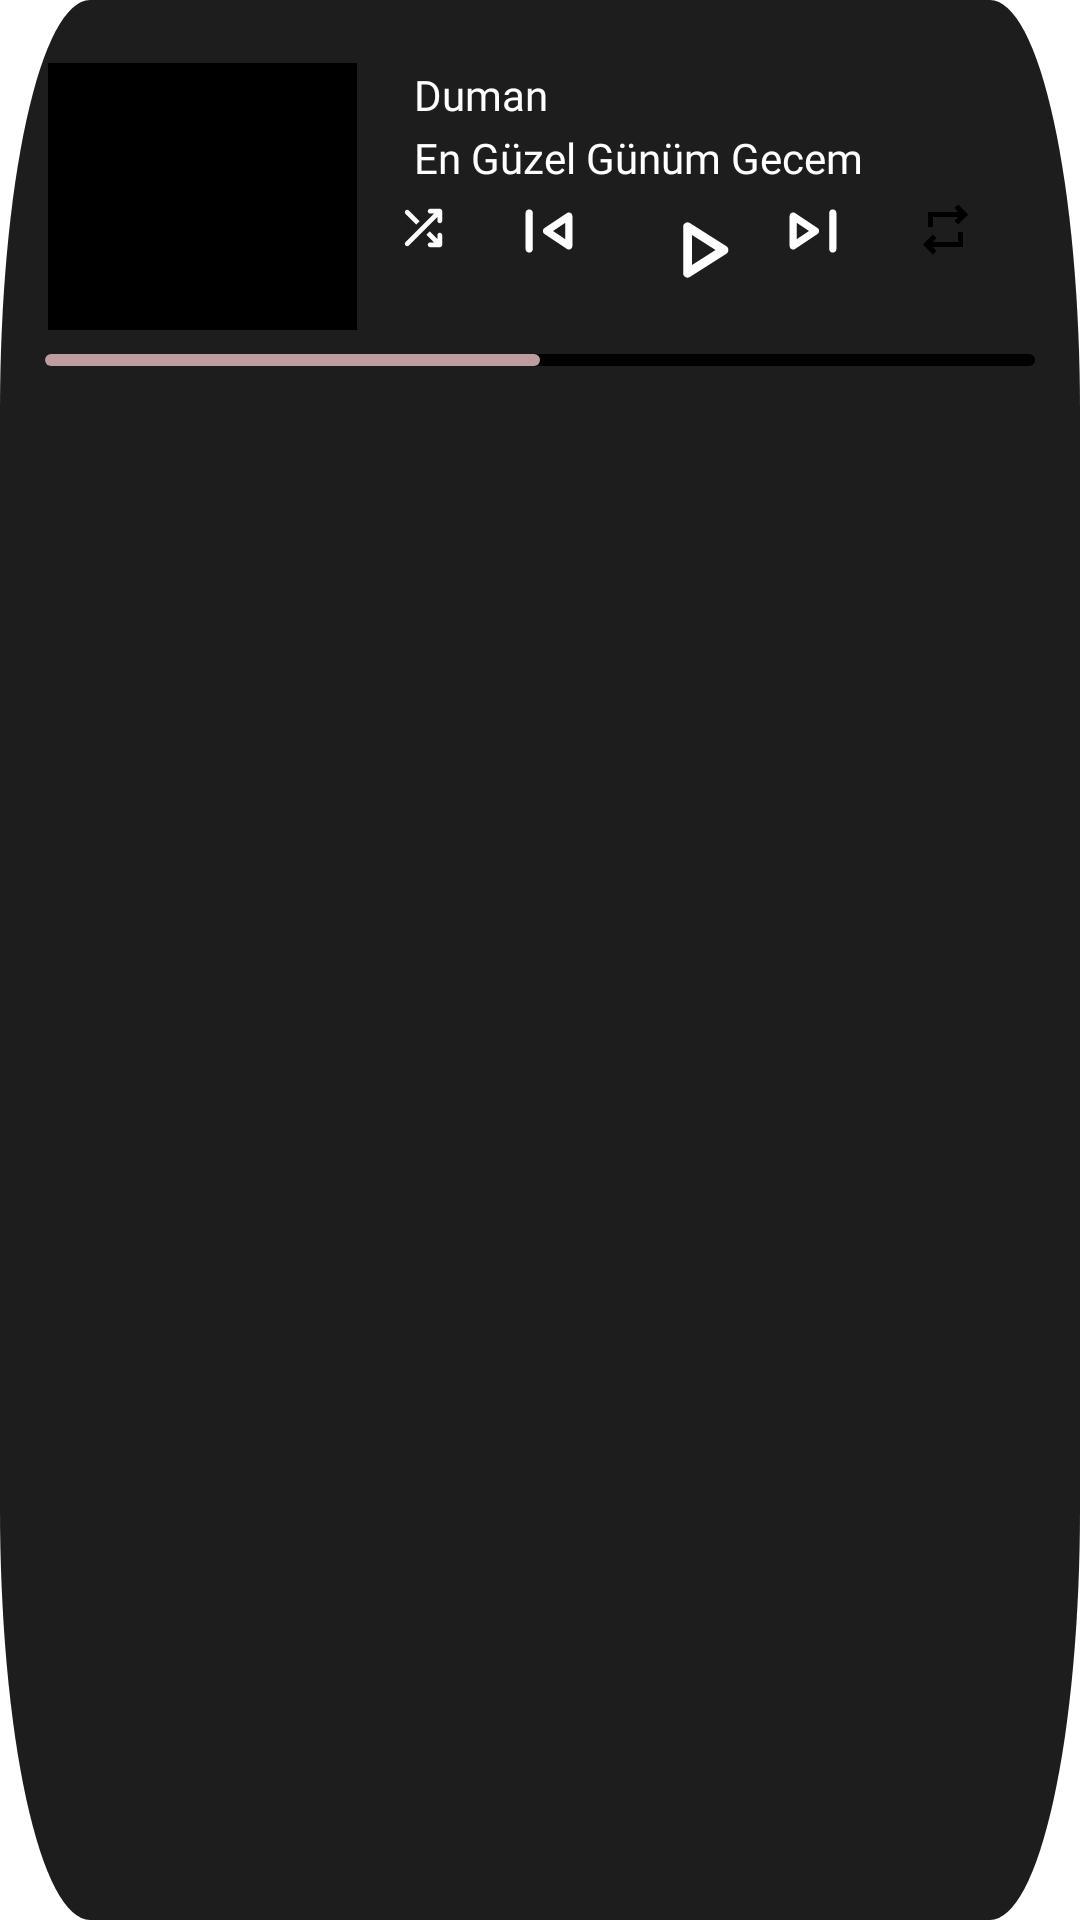

Named icons in this screenshot (1080×1920) and their centers, (x,y):
play: (706,250)
repeat: (946,229)
shufflenot: (423,228)
skipnextnot: (813,231)
skippreviousnot: (549,231)
